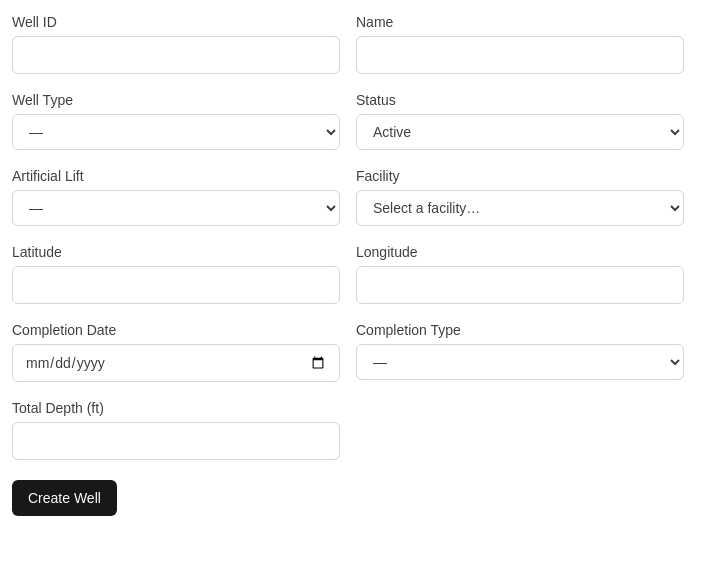
WellForm › rejects an out-of-range latitude
This screenshot has width=701, height=573.
Type "NEW-002" into the field labelled "Well ID".
click(176, 55); type("NEW-002")  # box [12,36,340,74]
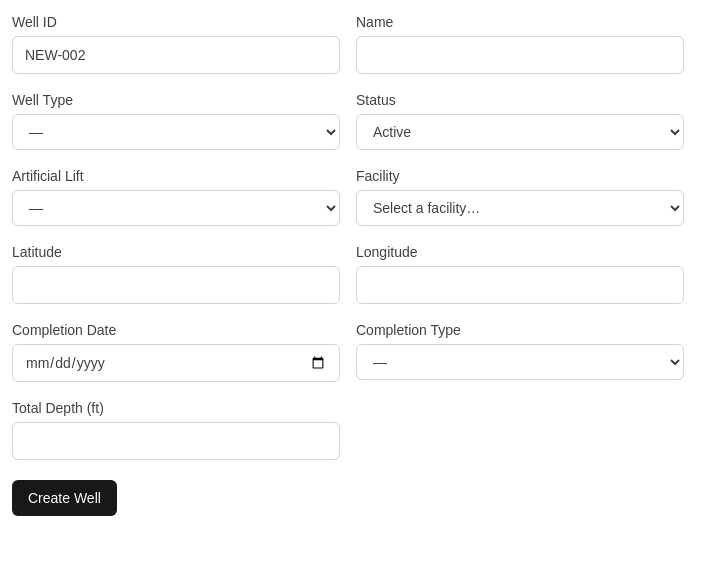
Type "New Well" into the field labelled "Name".
click(520, 55); type("New Well")  # box [356,36,684,74]
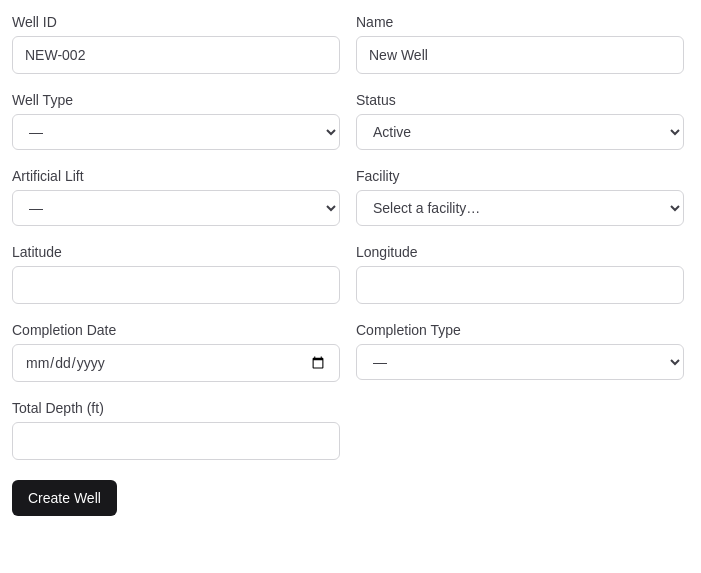
Type "500" into the field labelled "Latitude".
click(176, 285); type("500")  # box [12,266,340,304]
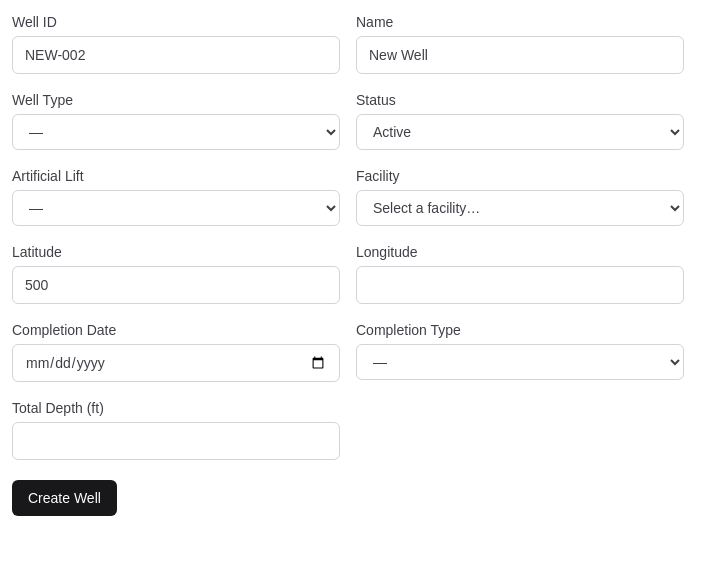
Click the button "Create Well".
click(64, 498)  # box [12,480,117,516]
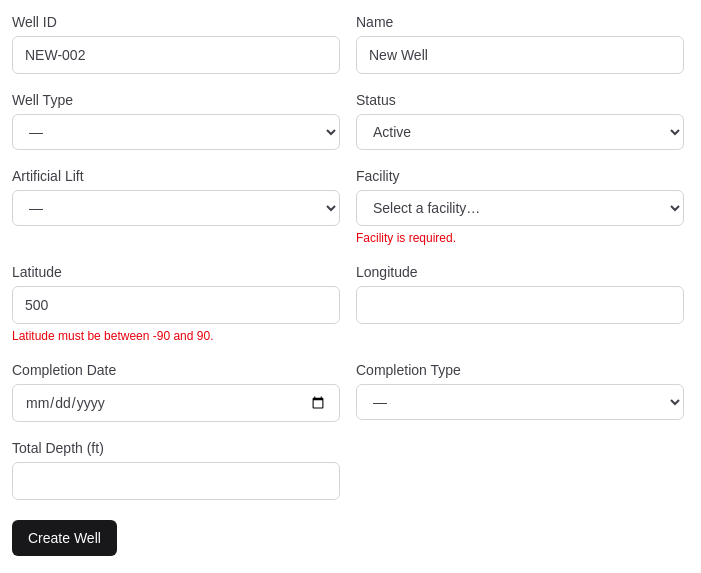
Now the text "Latitude must be between -90 and 90." is shown, box [12,329,214,343]
